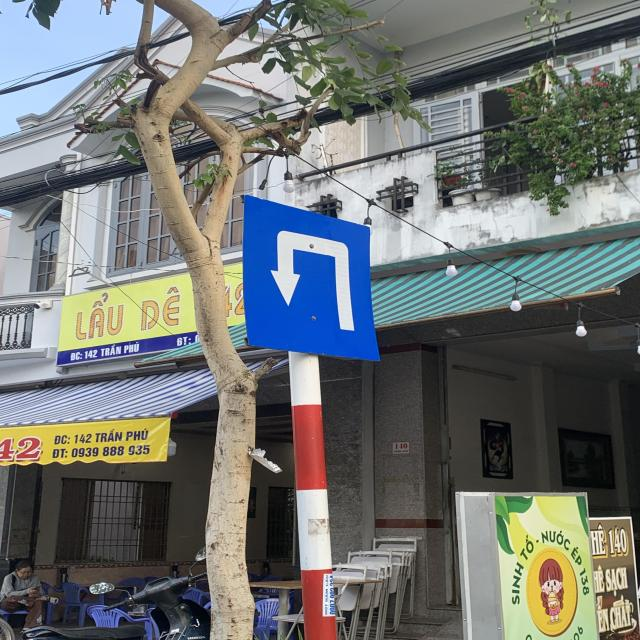Den_Giao_Thong: (244, 194, 371, 363)
